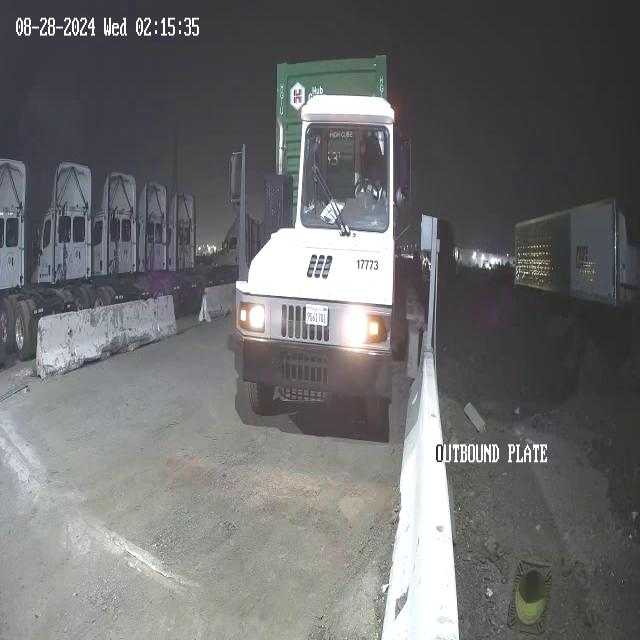CONTAINER: (275, 55, 394, 307)
